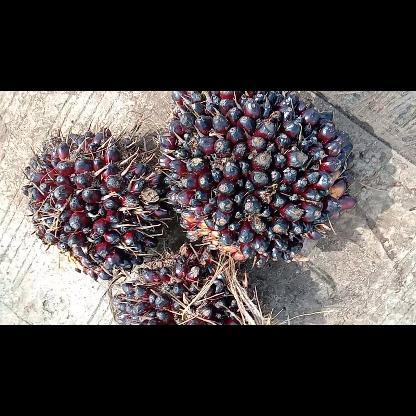TBS mentah: (157, 91, 360, 268), (19, 125, 178, 283), (104, 240, 284, 324)
